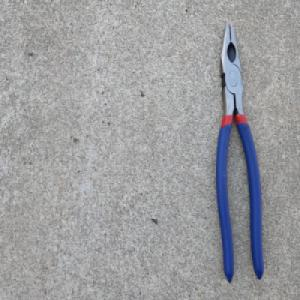Pliers: (214, 18, 265, 285)
